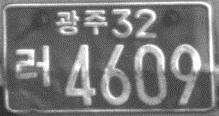0: (133, 42, 169, 106)
2: (133, 6, 159, 40)
3: (109, 6, 134, 39)
4: (63, 42, 97, 108)
6: (99, 41, 133, 109)
9: (168, 41, 203, 105)
광주_O: (54, 6, 107, 37)
러: (12, 43, 54, 89)
